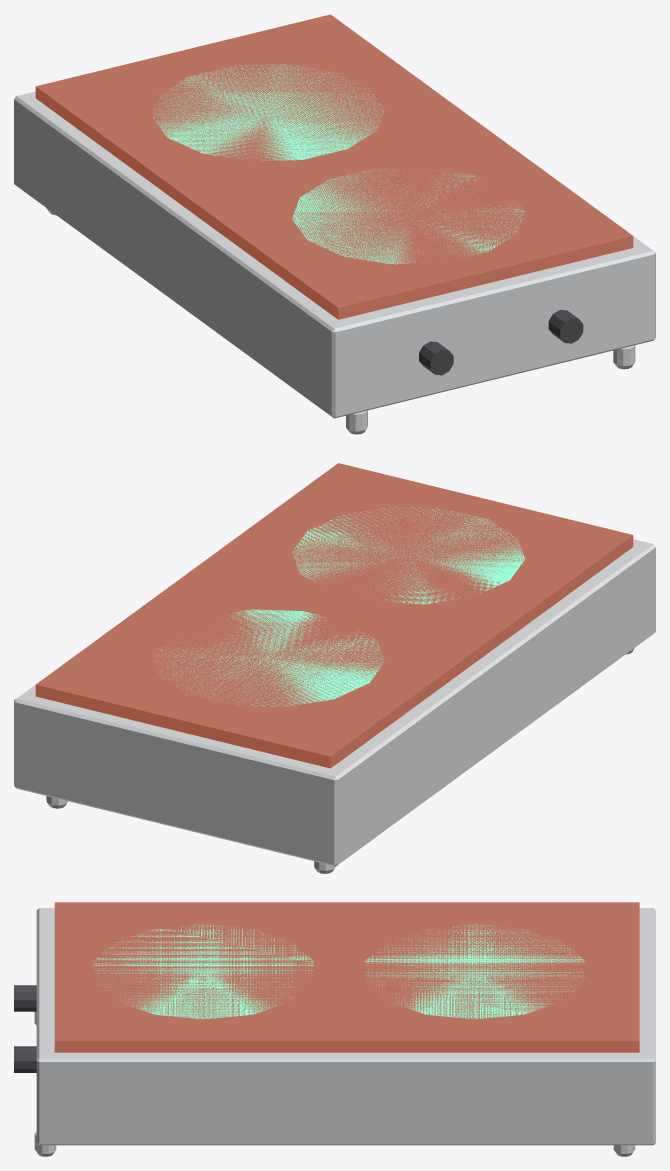
File: NSF-INDUCTION-HOB-2Z.glb
The picture shows the model from 3 angles, top to bottom: view 1: azimuth 30°, elevation 25°; view 2: azimuth 150°, elevation 25°; view 3: azimuth 270°, elevation 25°; orthographic projection. The views are drawn at different scales.
Visible parts, largest first — view 1: asset_nsf_induction_hob_2z; view 2: asset_nsf_induction_hob_2z; view 3: asset_nsf_induction_hob_2z.
Part boxes in pixels (x1,y1,x2,y2): asset_nsf_induction_hob_2z: (14, 14, 655, 434); asset_nsf_induction_hob_2z: (14, 463, 655, 873); asset_nsf_induction_hob_2z: (14, 902, 655, 1156).
Size of the model in its own units: 0.4 by 0.145 by 0.71.
